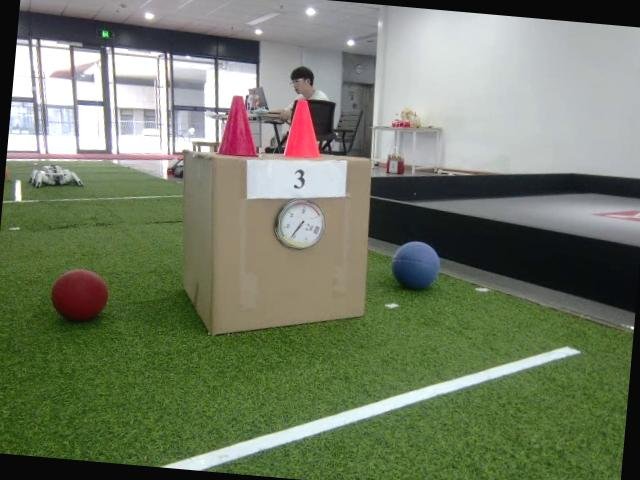3: (292, 168, 307, 191)
Dashboard: (272, 196, 328, 252)
blue_ball: (387, 239, 442, 292)
orange_barrel: (280, 96, 326, 160)
red_ball: (47, 264, 111, 323)
red_barrel: (214, 92, 266, 158)
ssi: (313, 223, 320, 237)
